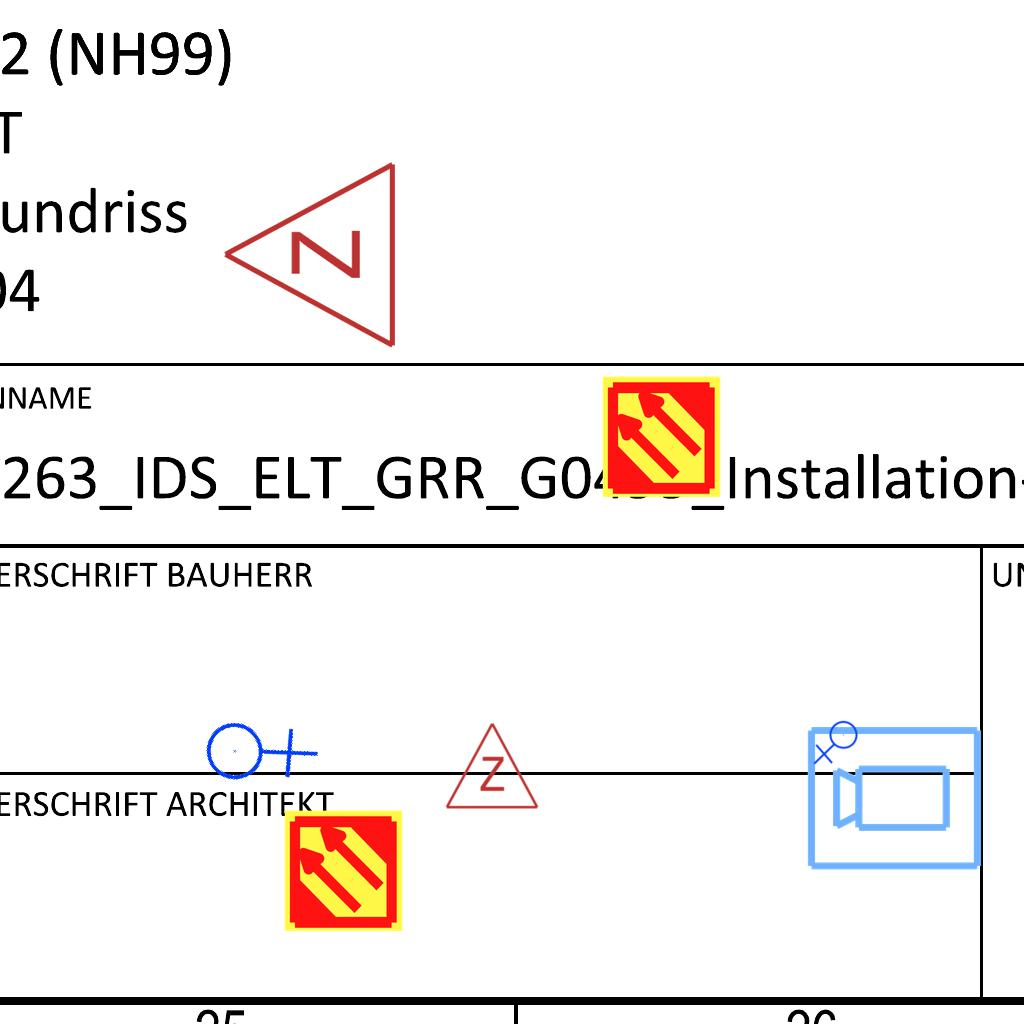ASR_Ansaugrauchmelder: (599, 374, 724, 499), (281, 808, 406, 933)
Elektroanschluss_allgemein_230V_Geraeteanschlussdose_230V: (187, 679, 324, 817), (813, 720, 862, 767)
KFO_Kamera_mit_Festobjektiv: (804, 720, 986, 874)
Zimmersignalleuchte: (210, 159, 410, 355), (442, 716, 540, 816)
